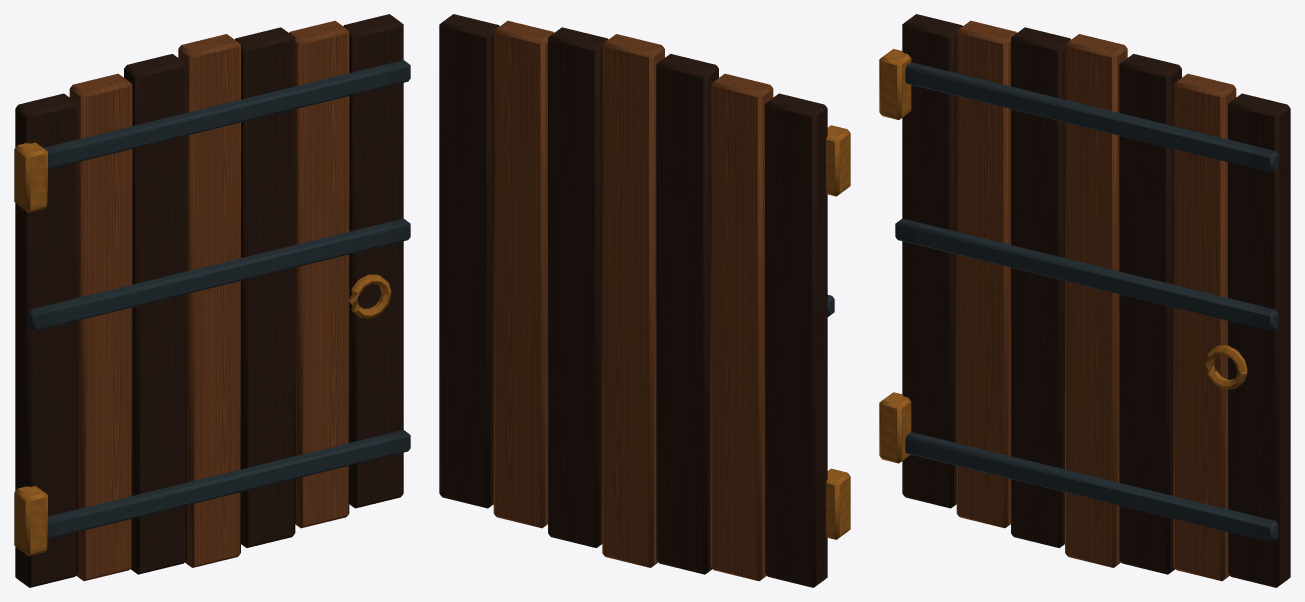
Rendered from Folha_portao_LOD0.fbx.
The picture shows the model from 3 angles, left to right: view 1: azimuth 30°, elevation 25°; view 2: azimuth 150°, elevation 25°; view 3: azimuth 330°, elevation 25°; orthographic projection.
Parts seen in each view (by area): view 1: Folha_portao_LOD0; view 2: Folha_portao_LOD0; view 3: Folha_portao_LOD0.
Part boxes in pixels (x1,y1,x2,y2): Folha_portao_LOD0: (14,14,410,587); Folha_portao_LOD0: (439,14,850,587); Folha_portao_LOD0: (879,14,1290,587).
Size of the model in its own units: 309 by 390 by 35.
1 material, 1 textured.
